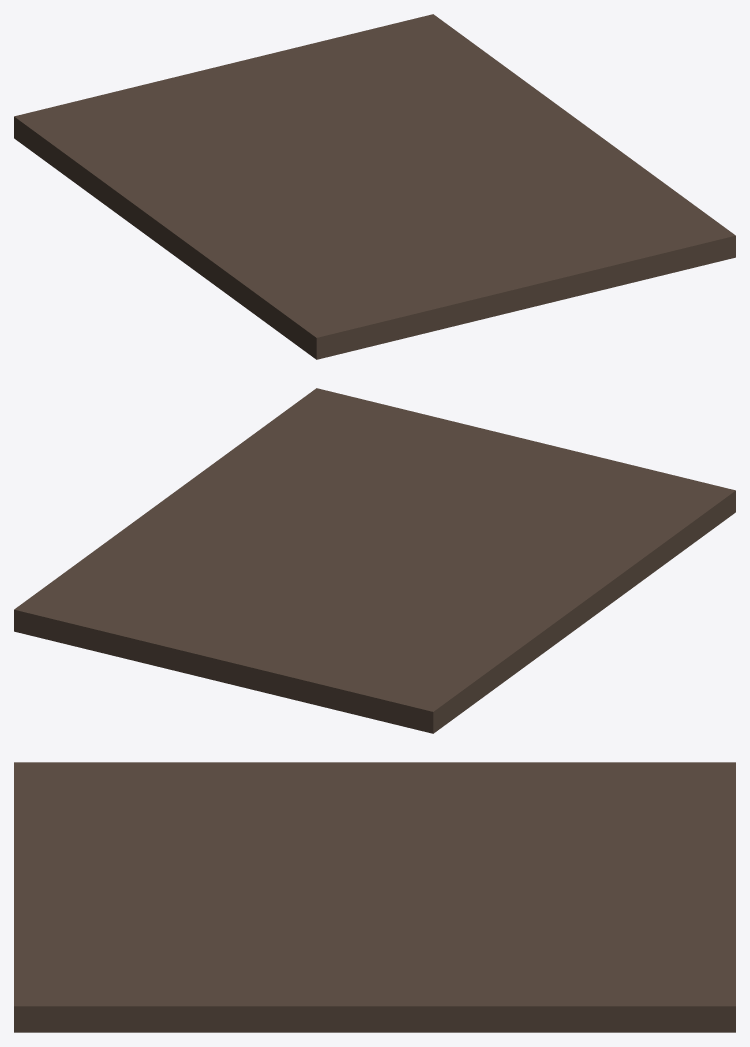
Rendered from floorPlanks.fbx.
3 views of the same model, one above another, from view 1: azimuth 30°, elevation 25°; view 2: azimuth 150°, elevation 25°; view 3: azimuth 270°, elevation 25° (orthographic). The views are drawn at different scales.
Visible parts, largest first — view 1: floorPlanks; view 2: floorPlanks; view 3: floorPlanks.
Part boxes in pixels (x1,y1,x2,y2): floorPlanks: (14, 14, 735, 359); floorPlanks: (14, 388, 735, 733); floorPlanks: (14, 762, 735, 1032).
Size of the model in its own units: 400 by 20 by 500.
